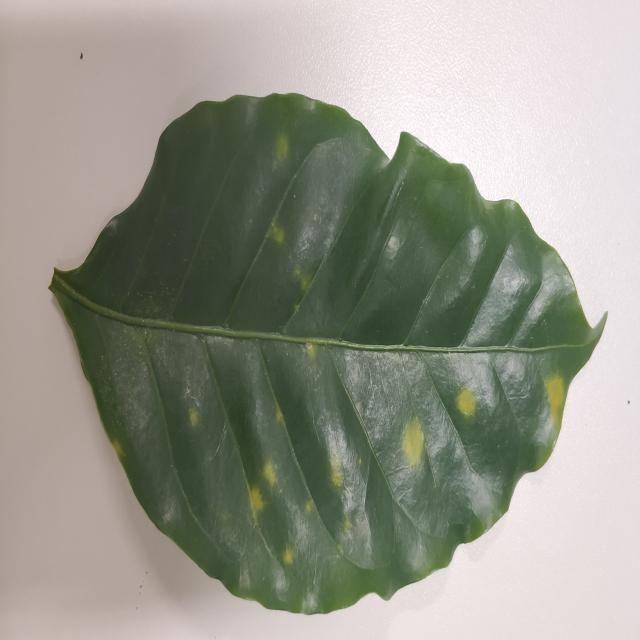Enfermedad-Roya: (48, 93, 608, 618)
